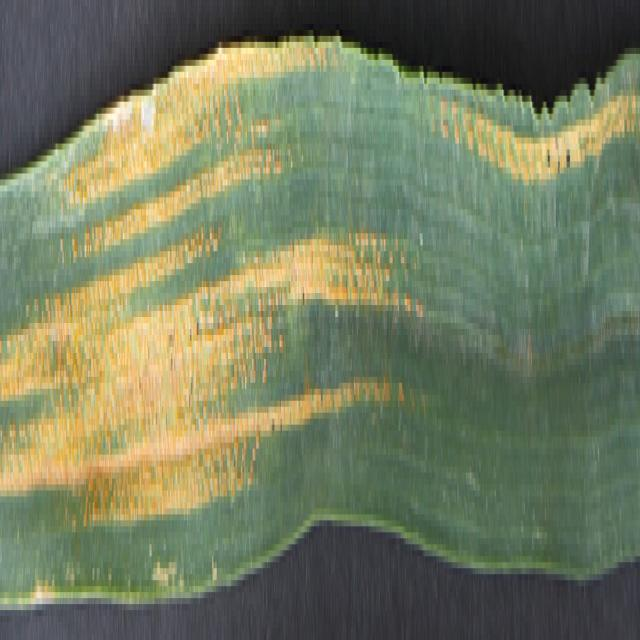leaf rust: (3, 30, 427, 562), (438, 30, 638, 221)
